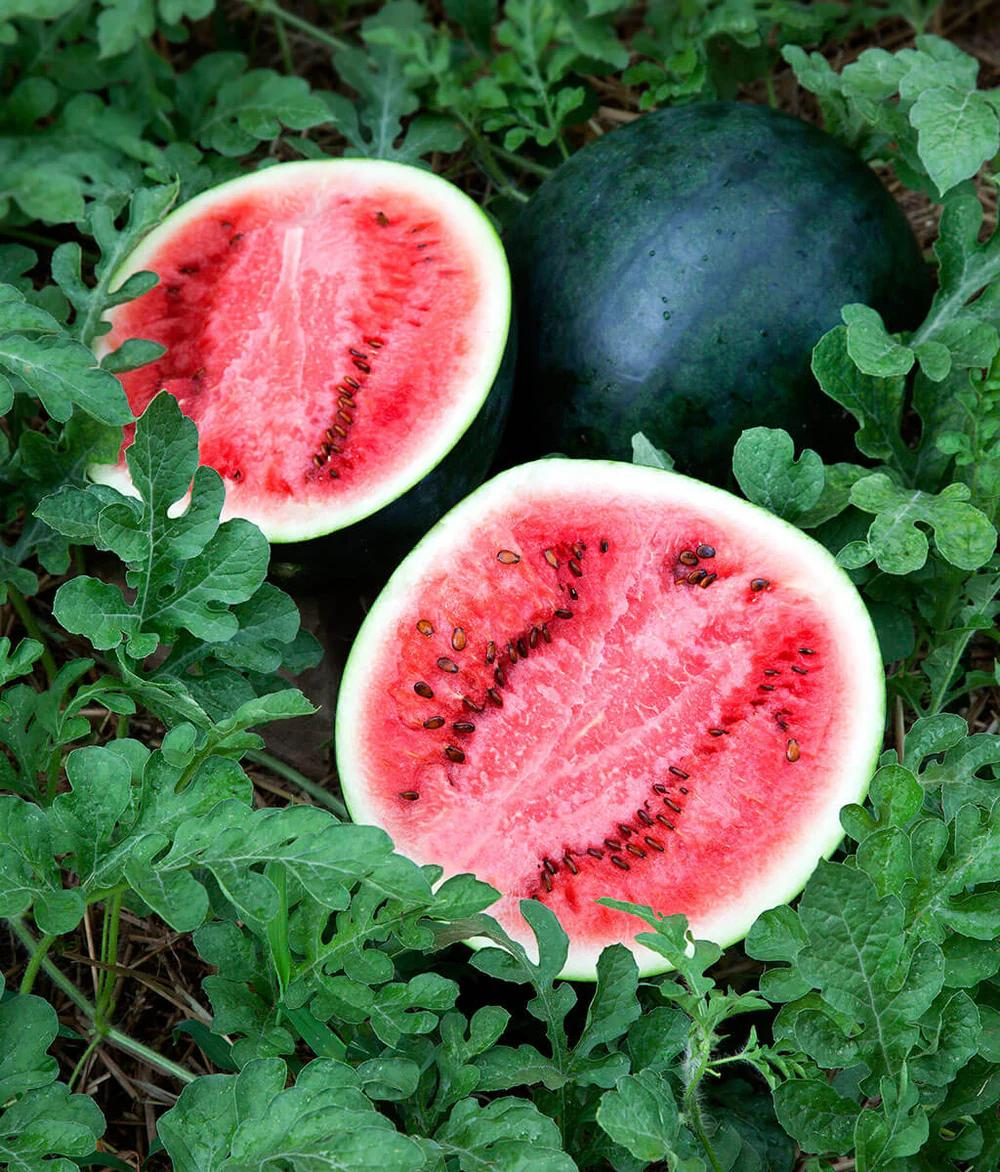watermelon: (338, 443, 886, 997), (65, 146, 522, 531), (528, 93, 938, 487)
